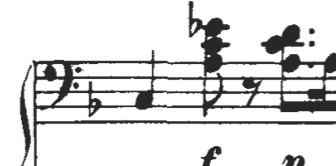bass_clef: (41, 53, 86, 108)
flat: (80, 80, 105, 120)
